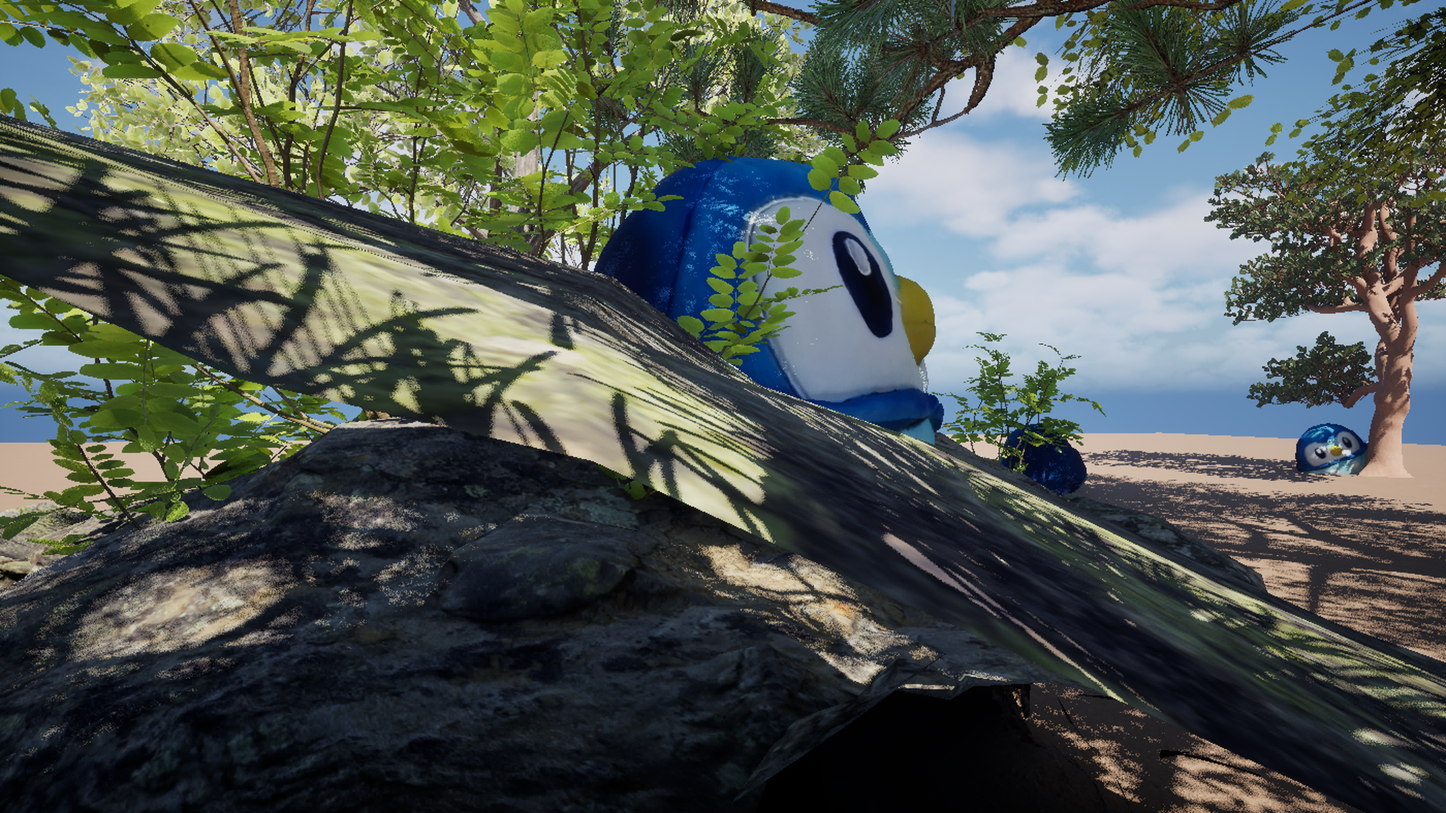Piplup: (202, 0, 1303, 813)
